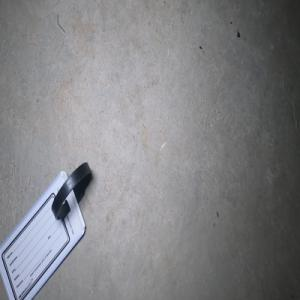LuggageTag: (0, 160, 93, 300)
